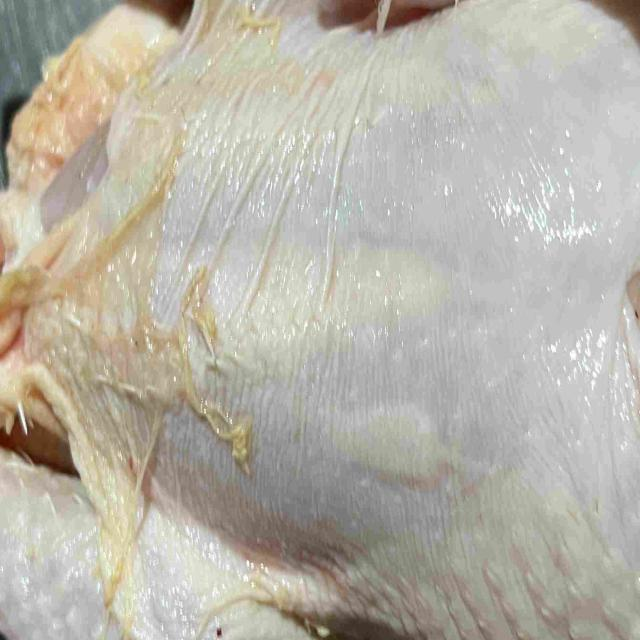breast: (0, 0, 640, 640)
leg: (0, 441, 348, 640)
